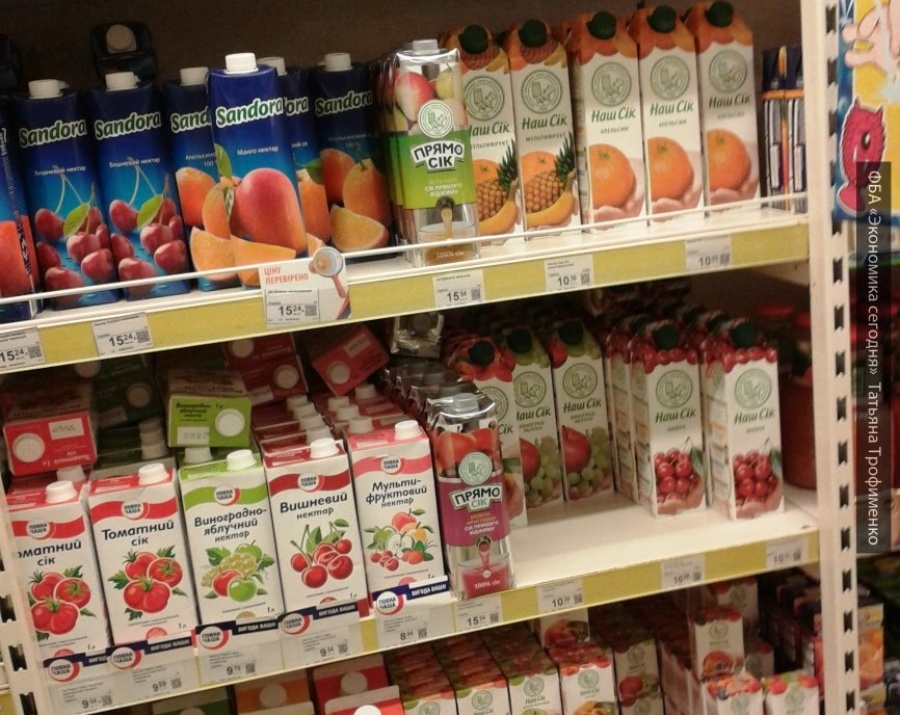juice: (90, 67, 201, 306), (214, 55, 325, 290), (91, 467, 210, 653), (347, 421, 464, 609), (266, 436, 382, 622), (180, 453, 298, 633), (393, 42, 485, 272), (426, 389, 518, 602)
